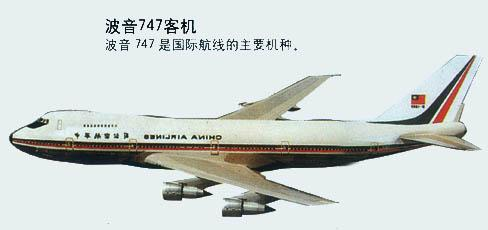airplane: (6, 53, 485, 215)
